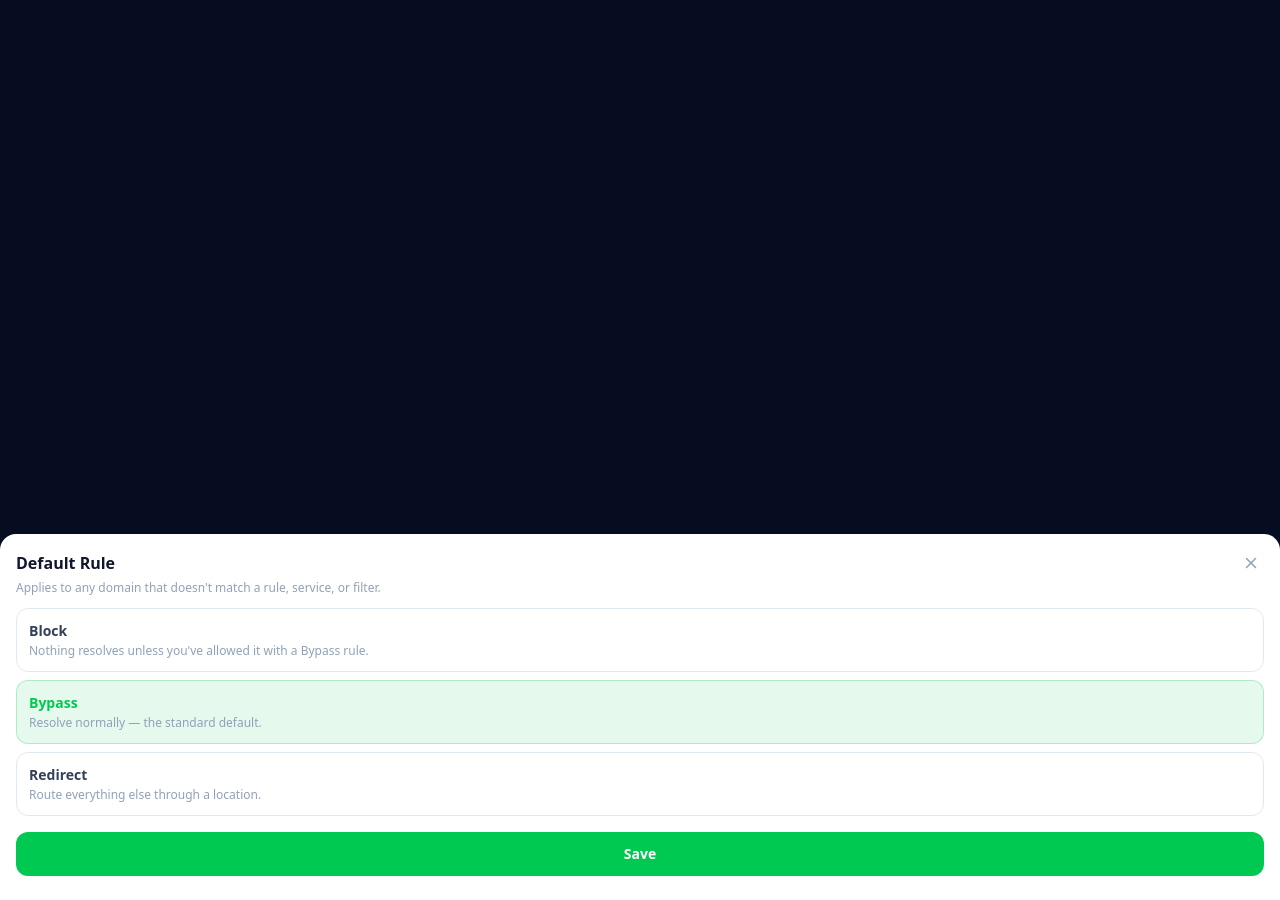
Test case: DefaultRuleSheet › selecting Block shows the allowlist warning
Click the text "Block". click: [48, 630]
box: [29,621,67,640]
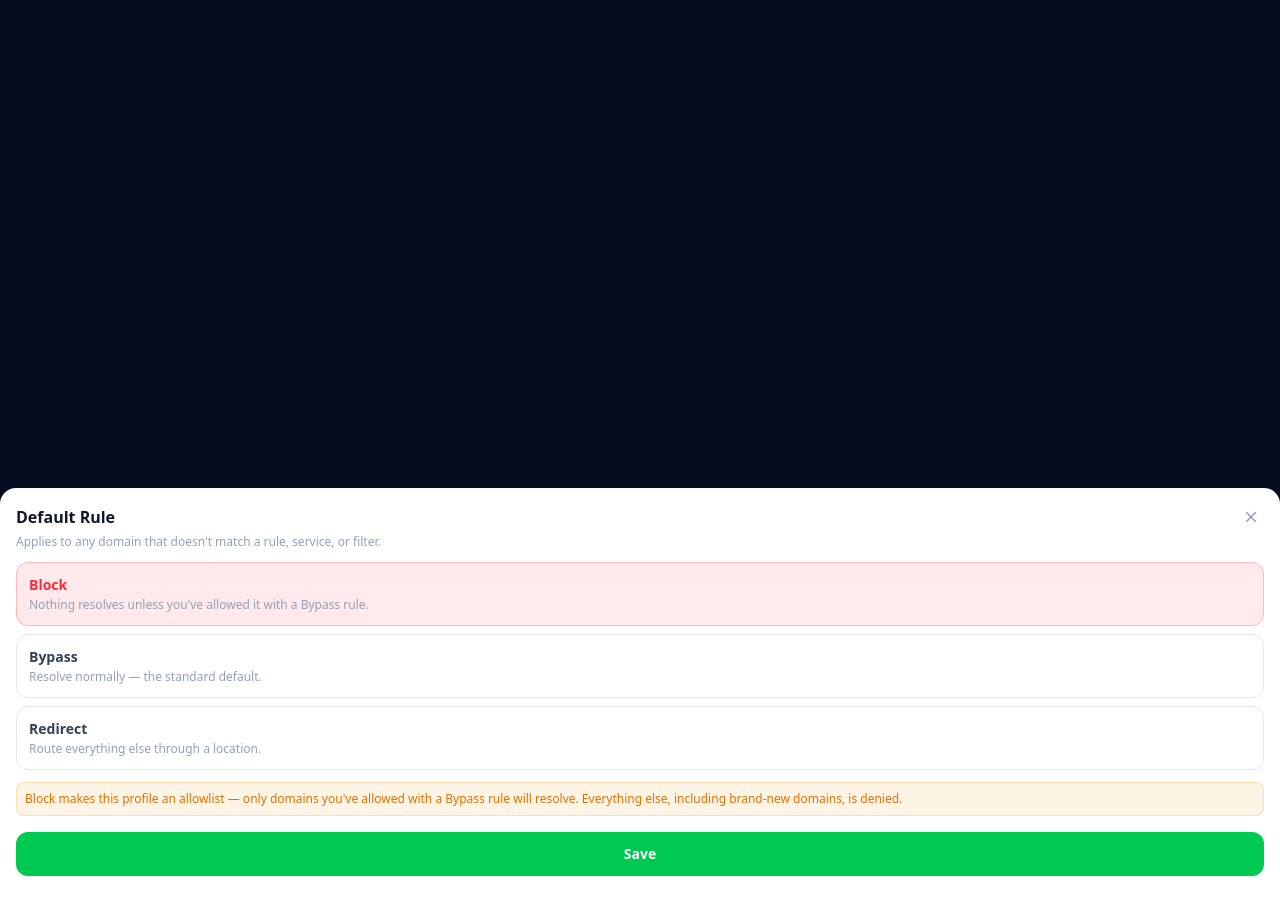
Check: the text "allowlist" is shown, box [25,790,902,807]
